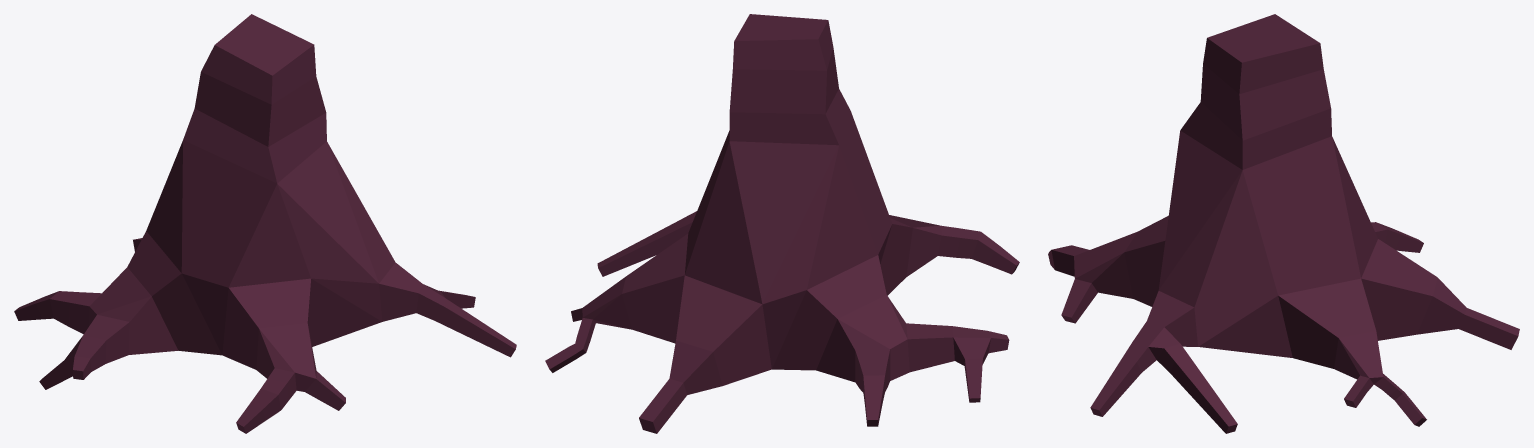
Rendered from treeStump_001_grp.fbx.
3 views of the same model, side by side, from view 1: azimuth 30°, elevation 25°; view 2: azimuth 150°, elevation 25°; view 3: azimuth 270°, elevation 25° (orthographic). The views are drawn at different scales.
Visible parts, largest first — view 1: treeStump_001_grp; view 2: treeStump_001_grp; view 3: treeStump_001_grp.
Part boxes in pixels (bbox=[...]): treeStump_001_grp: bbox=[14, 14, 516, 433]; treeStump_001_grp: bbox=[545, 14, 1019, 433]; treeStump_001_grp: bbox=[1048, 14, 1519, 433].
Size of the model in its own units: 200 by 150 by 200.
